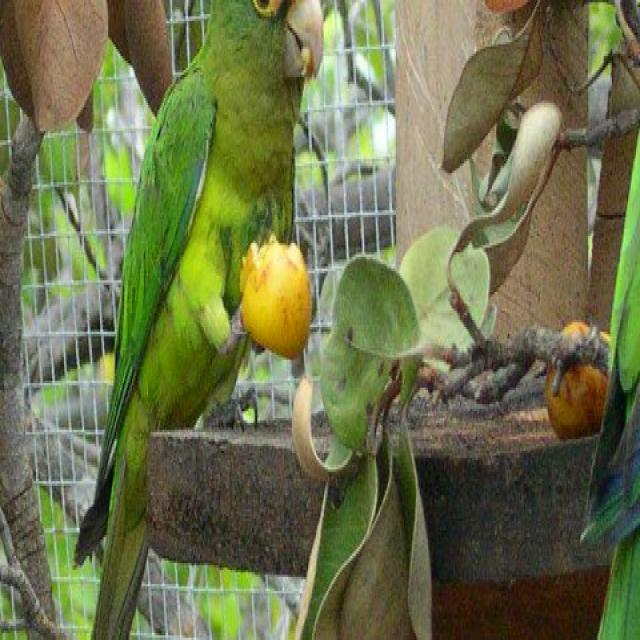parrot: (76, 0, 321, 638)
